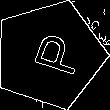P_W: (18, 29, 81, 80)
